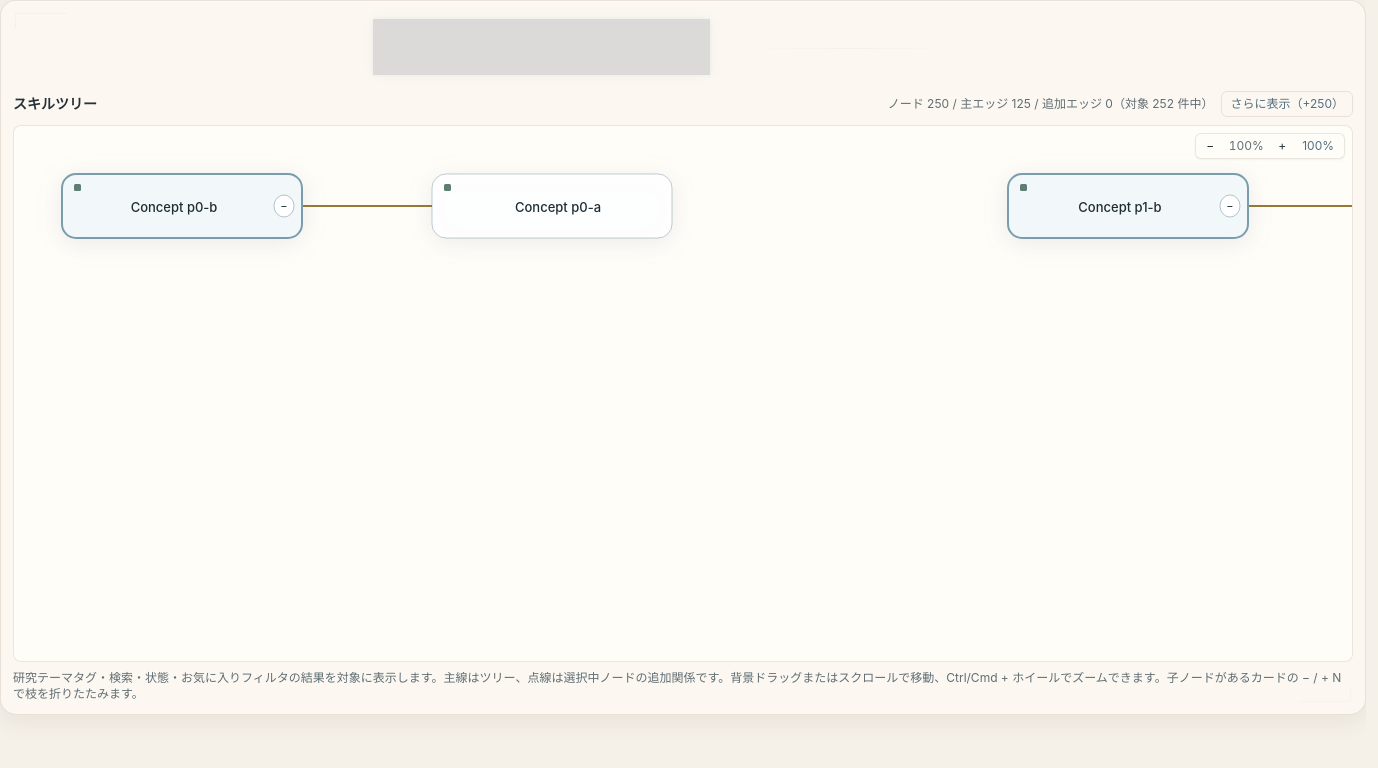
Test case: SkillTreeView forest (#208) › さらに表示で window に入った別成分も描画する
Click the button "さらに表示（+250）": x=1287, y=104 [1221,91,1353,117]
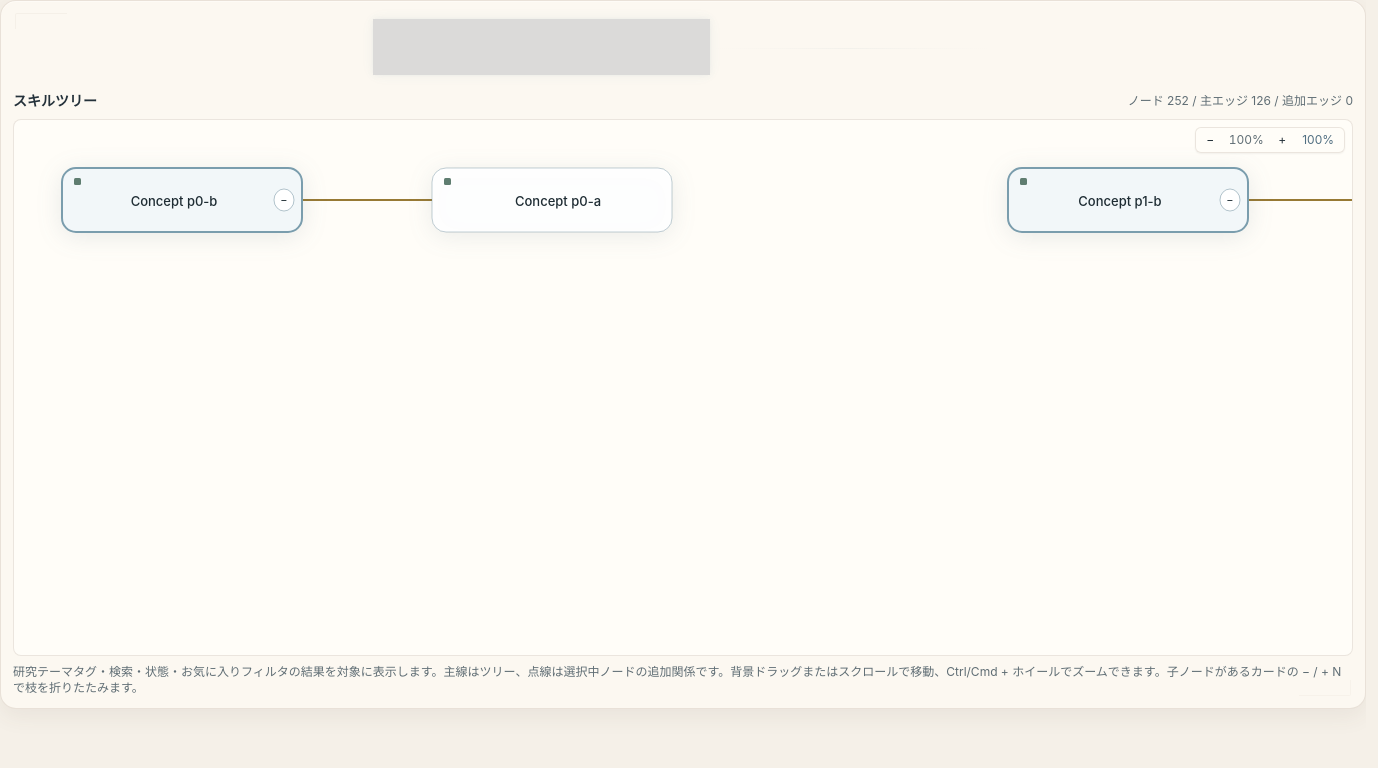
Expected: the text "ノード 252" is shown, [1128,93,1353,109]
